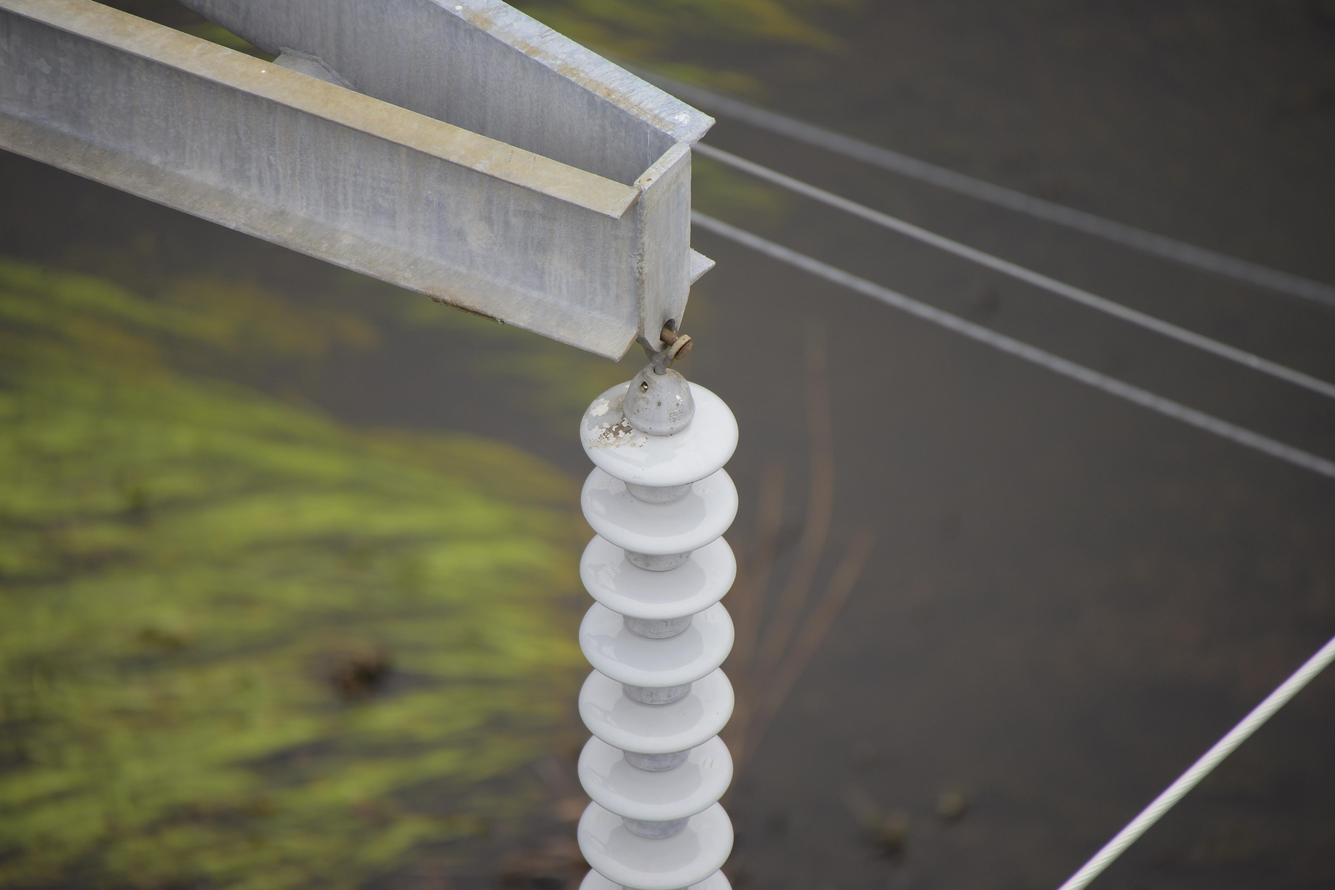Flashover: (583, 387, 648, 449)
insulator: (575, 366, 751, 890)
